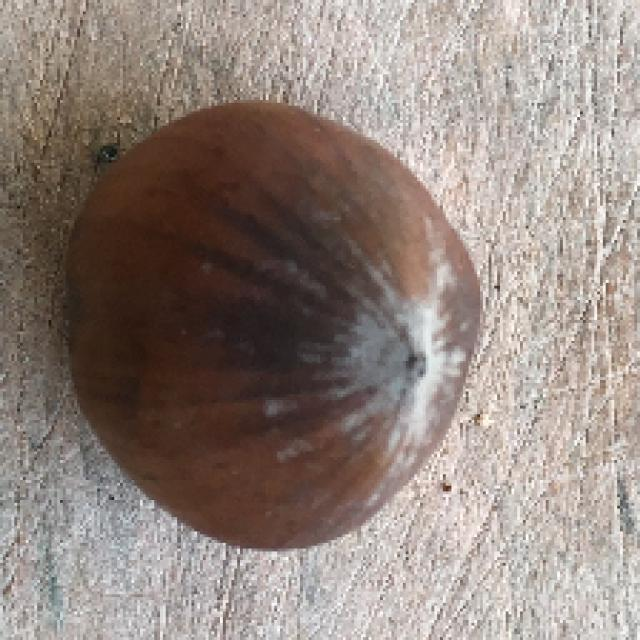qualityHazelnut: (57, 97, 491, 566)
